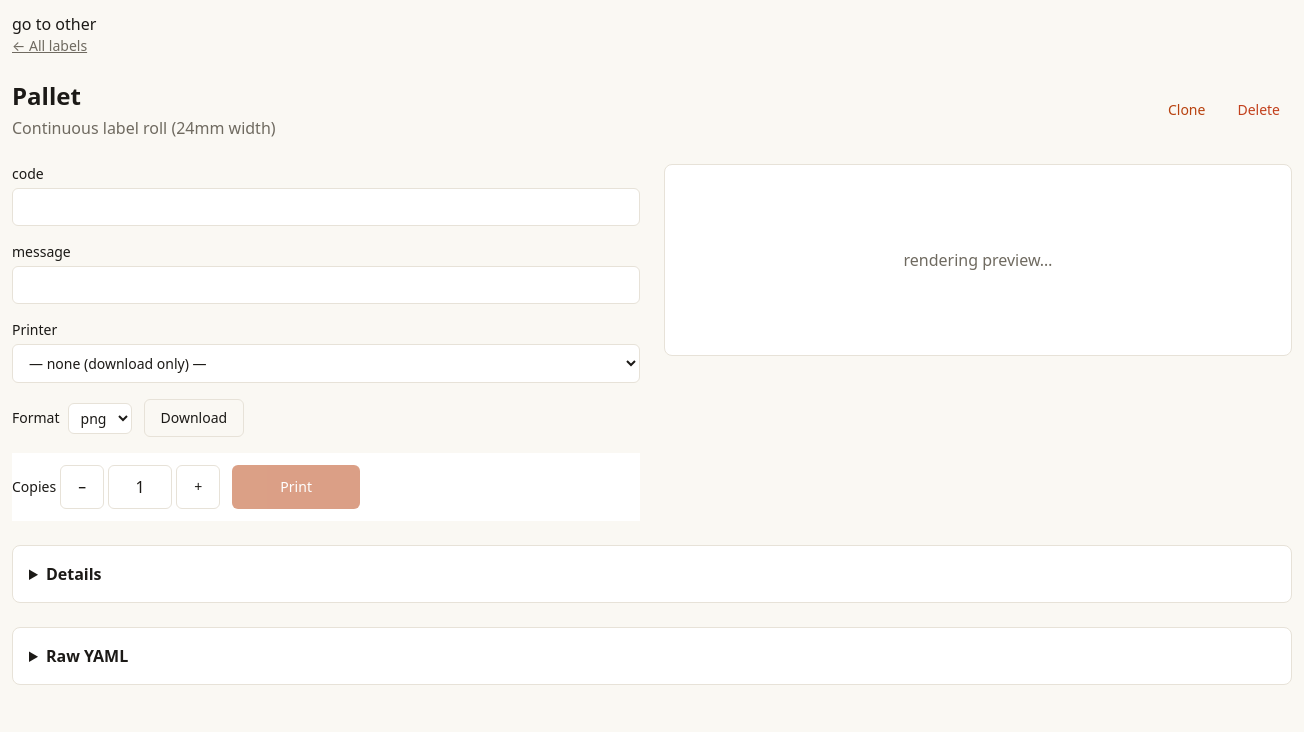
Scenario: Template cloning › keeps a create failure visible on the original without retrying create
Click the button "Clone" at x=1187, y=110, box x1=1156 y1=92 x2=1217 y2=128
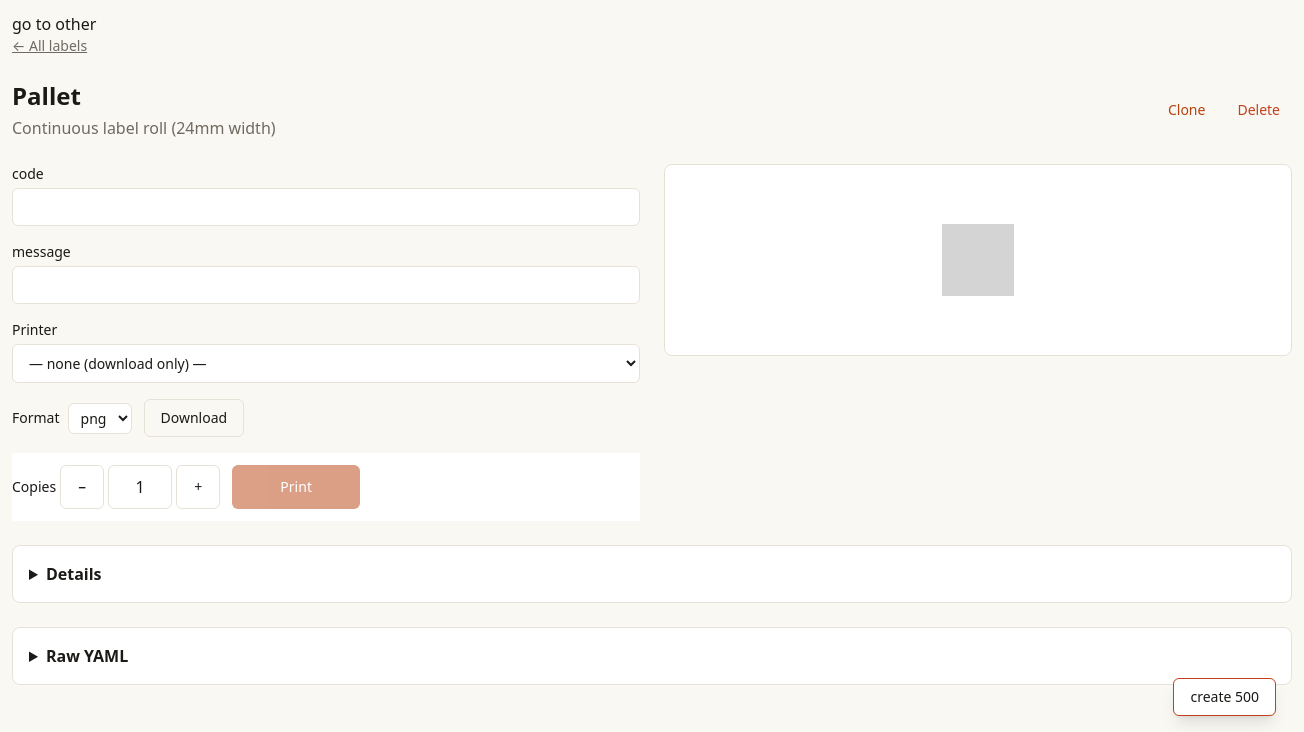
Expected: the heading "Pallet" is shown, x1=12 y1=79 x2=81 y2=112
Now the message reads "create 500", box x1=1173 y1=678 x2=1276 y2=716
